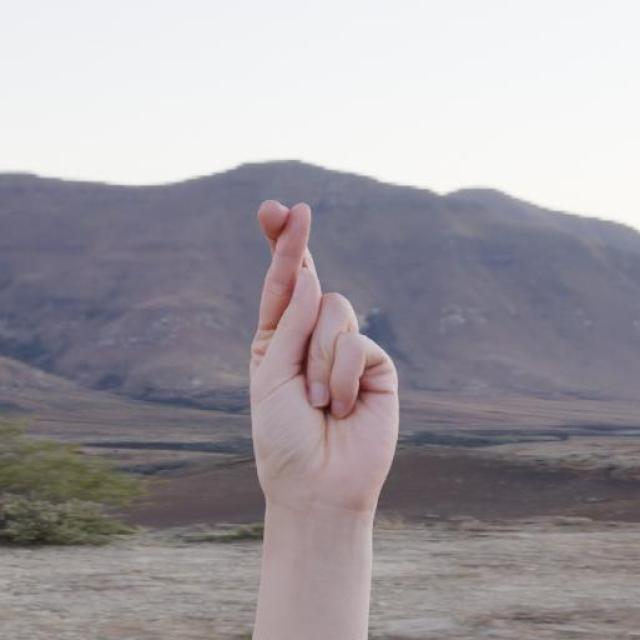R: (247, 197, 402, 509)
